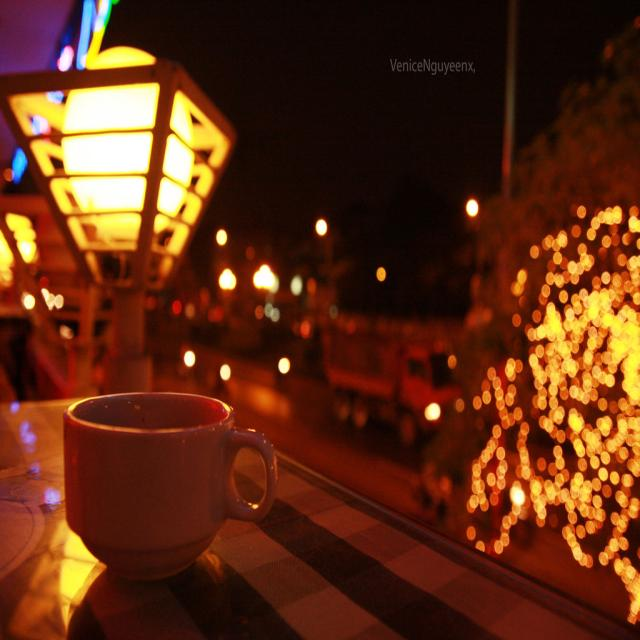Cup: (56, 375, 281, 587)
Table: (5, 366, 640, 640)
